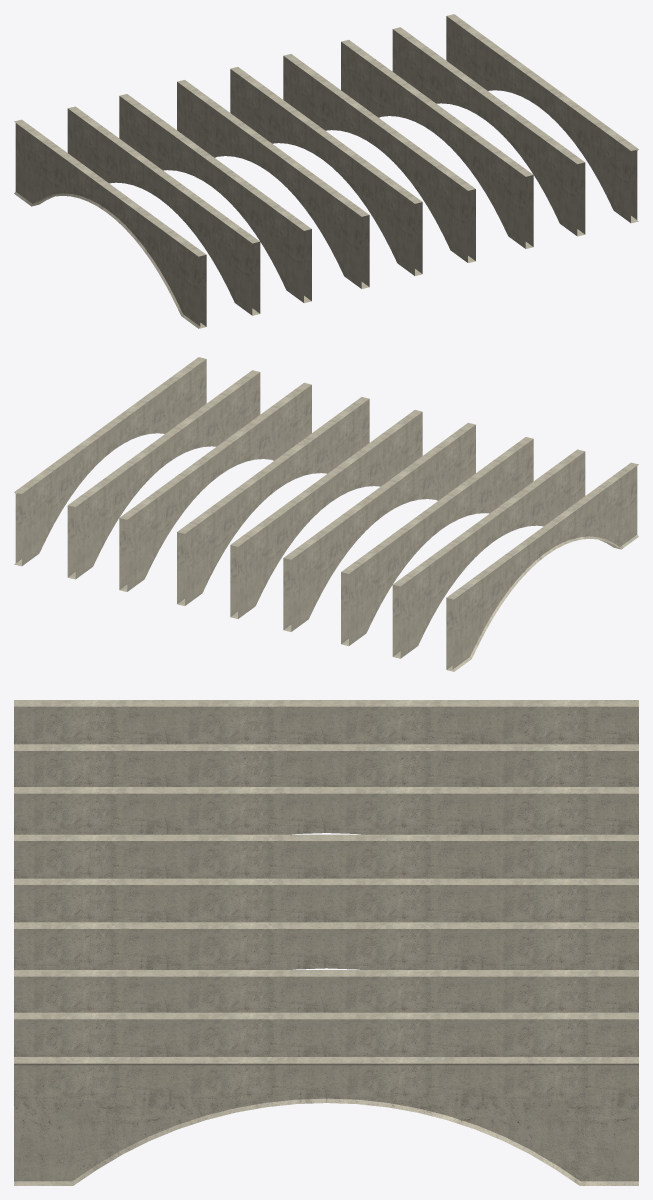
File: BridgeBase6-4L.FBX
The picture shows the model from 3 angles, top to bottom: view 1: azimuth 30°, elevation 25°; view 2: azimuth 150°, elevation 25°; view 3: azimuth 270°, elevation 25°; orthographic projection. The views are drawn at different scales.
Visible parts, largest first — view 1: BridgeBase6-4L; view 2: BridgeBase6-4L; view 3: BridgeBase6-4L.
Part boxes in pixels (x1,y1,x2,y2): BridgeBase6-4L: (14,14,638,328); BridgeBase6-4L: (14,357,638,671); BridgeBase6-4L: (14,700,638,1185).
Bounding box in the file's own units: 28 × 4.4 × 20.34.
